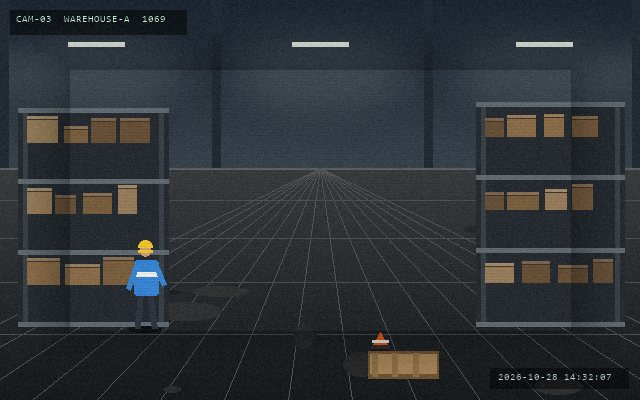cone: (370, 330, 390, 351)
pallet: (366, 349, 440, 380)
person: (126, 238, 166, 331)
shelf: (476, 102, 624, 322), (18, 108, 168, 322)
